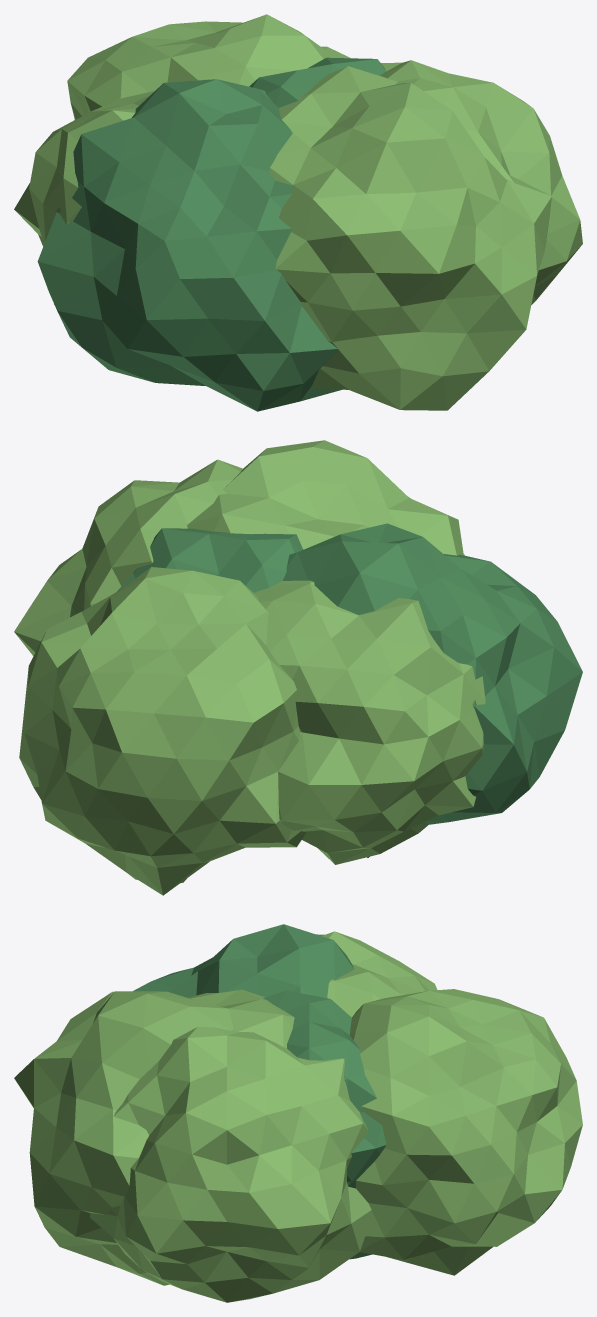
File: bush.glb
3 views of the same model, one above another, from view 1: azimuth 30°, elevation 25°; view 2: azimuth 150°, elevation 25°; view 3: azimuth 270°, elevation 25° (orthographic). The views are drawn at different scales.
Parts seen in each view (by area): view 1: bush; view 2: bush; view 3: bush.
Boxes of the visible parts, x1,y1,x2,y2 form: bush: (14,14,582,411); bush: (14,440,582,895); bush: (14,924,582,1302).
Size of the model in its own units: 1.4 by 0.8399 by 1.52.
